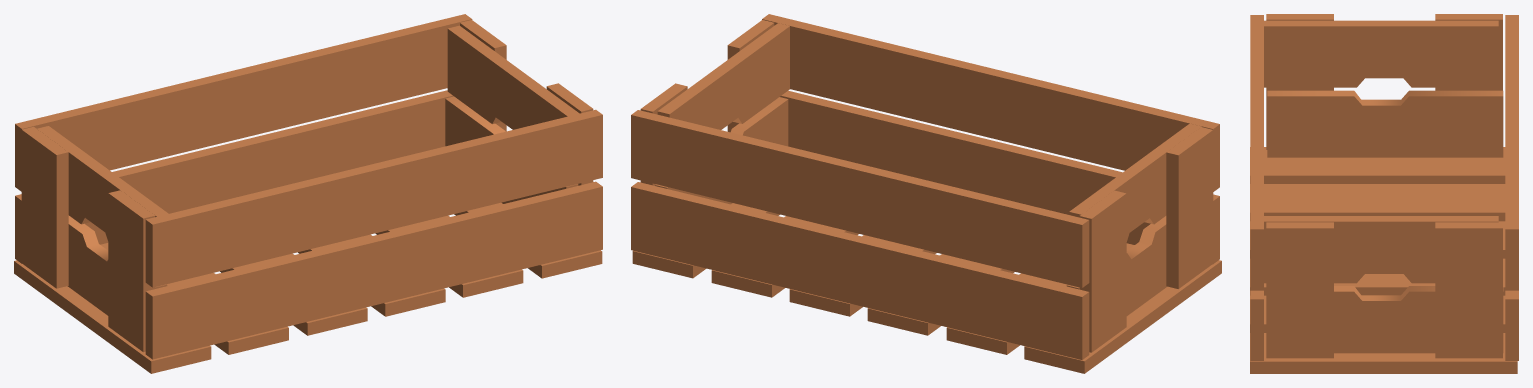
The model's file is open_box_01.fbx.
3 renders of one model, left to right at view 1: azimuth 30°, elevation 25°; view 2: azimuth 150°, elevation 25°; view 3: azimuth 270°, elevation 25°, orthographic. The views are drawn at different scales.
Parts seen in each view (by area): view 1: open_box_01; view 2: open_box_01; view 3: open_box_01.
Boxes of the visible parts, <box> form: open_box_01: <box>14,14,602,373</box>; open_box_01: <box>631,14,1221,373</box>; open_box_01: <box>1250,14,1518,373</box>.
Size of the model in its own units: 75.02 by 23.68 by 39.64.
1 material, 1 textured.
